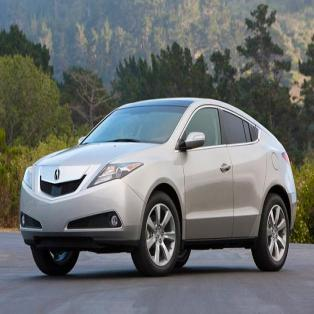Auto: (19, 98, 297, 278)
